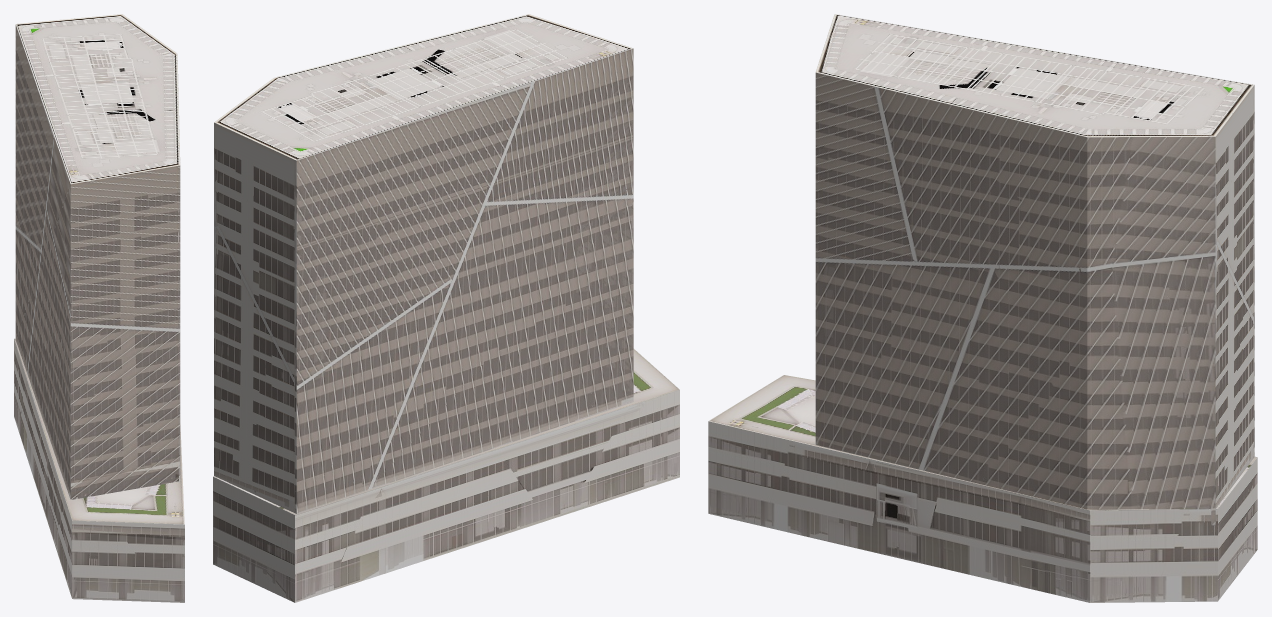
The picture shows the model from 3 angles, left to right: view 1: azimuth 30°, elevation 25°; view 2: azimuth 150°, elevation 25°; view 3: azimuth 270°, elevation 25°; orthographic projection. The views are drawn at different scales.
Visible parts, largest first — view 1: 3.001; view 2: 3.001; view 3: 3.001.
Boxes of the visible parts, left/top/right/bottom form: 3.001: left=14, top=14, right=184, bottom=602; 3.001: left=213, top=14, right=679, bottom=602; 3.001: left=708, top=14, right=1257, bottom=602.
Bounding box in the file's own units: 50.03 × 79.96 × 85.69.
1 material, 1 textured.
